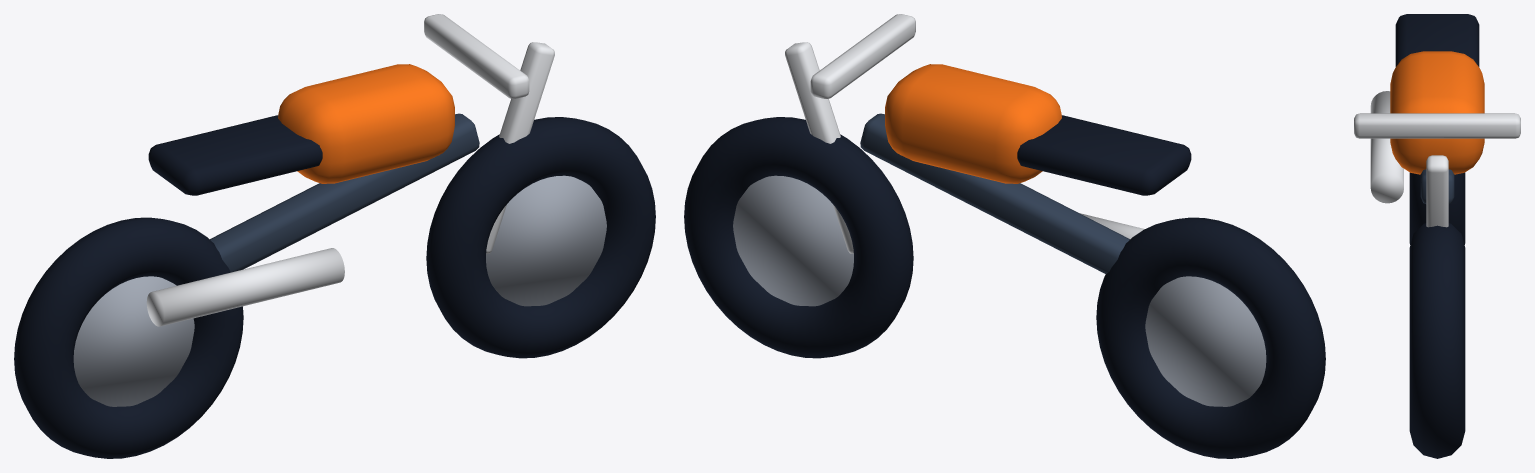
The model's file is bike.glb.
3 views of the same model, side by side, from view 1: azimuth 30°, elevation 25°; view 2: azimuth 150°, elevation 25°; view 3: azimuth 270°, elevation 25° (orthographic). The views are drawn at different scales.
Visible parts, largest first — view 1: WheelF, WheelR, Tank, WheelFHub, WheelRHub, Frame, Seat, Pipe, Bar, Fork; view 2: WheelR, WheelF, Tank, WheelRHub, WheelFHub, Frame, Seat, Bar, Fork; view 3: WheelF, Tank, Bar, Seat, Pipe, WheelR, Fork, Frame.
Boxes of the visible parts, left/top/right/bottom form: WheelF: left=426, top=117, right=655, bottom=358; WheelR: left=14, top=217, right=243, bottom=458; Tank: left=278, top=64, right=454, bottom=183; WheelFHub: left=486, top=175, right=606, bottom=306; WheelRHub: left=73, top=276, right=194, bottom=406; Frame: left=210, top=113, right=479, bottom=272; Seat: left=148, top=115, right=322, bottom=195; Pipe: left=146, top=248, right=344, bottom=326; Bar: left=424, top=14, right=529, bottom=98; Fork: left=486, top=42, right=554, bottom=253; WheelR: left=1096, top=217, right=1325, bottom=458; WheelF: left=684, top=117, right=913, bottom=358; Tank: left=885, top=64, right=1061, bottom=183; WheelRHub: left=1145, top=276, right=1266, bottom=406; WheelFHub: left=733, top=175, right=853, bottom=306; Frame: left=860, top=113, right=1129, bottom=273; Seat: left=1017, top=115, right=1191, bottom=195; Bar: left=810, top=14, right=915, bottom=98; Fork: left=785, top=42, right=853, bottom=253; WheelF: left=1409, top=223, right=1465, bottom=458; Tank: left=1390, top=51, right=1484, bottom=174; Bar: left=1354, top=113, right=1520, bottom=138; Seat: left=1395, top=14, right=1479, bottom=66; Pipe: left=1370, top=91, right=1403, bottom=203; WheelR: left=1409, top=172, right=1465, bottom=244; Fork: left=1426, top=155, right=1448, bottom=227; Frame: left=1420, top=169, right=1454, bottom=203.
Bounding box in the file's own units: 2.46 × 1.2 × 0.6.
